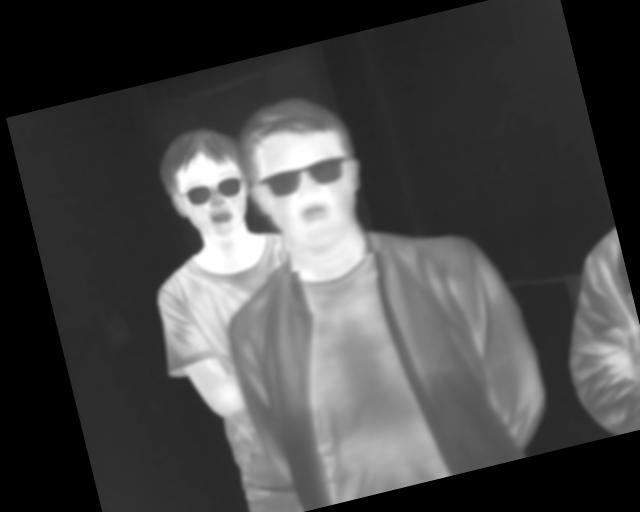face: (231, 82, 377, 263), (150, 117, 257, 248)
